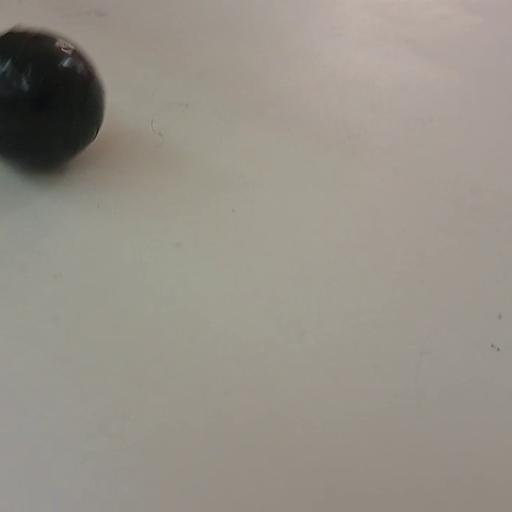dead: (0, 24, 108, 170)
